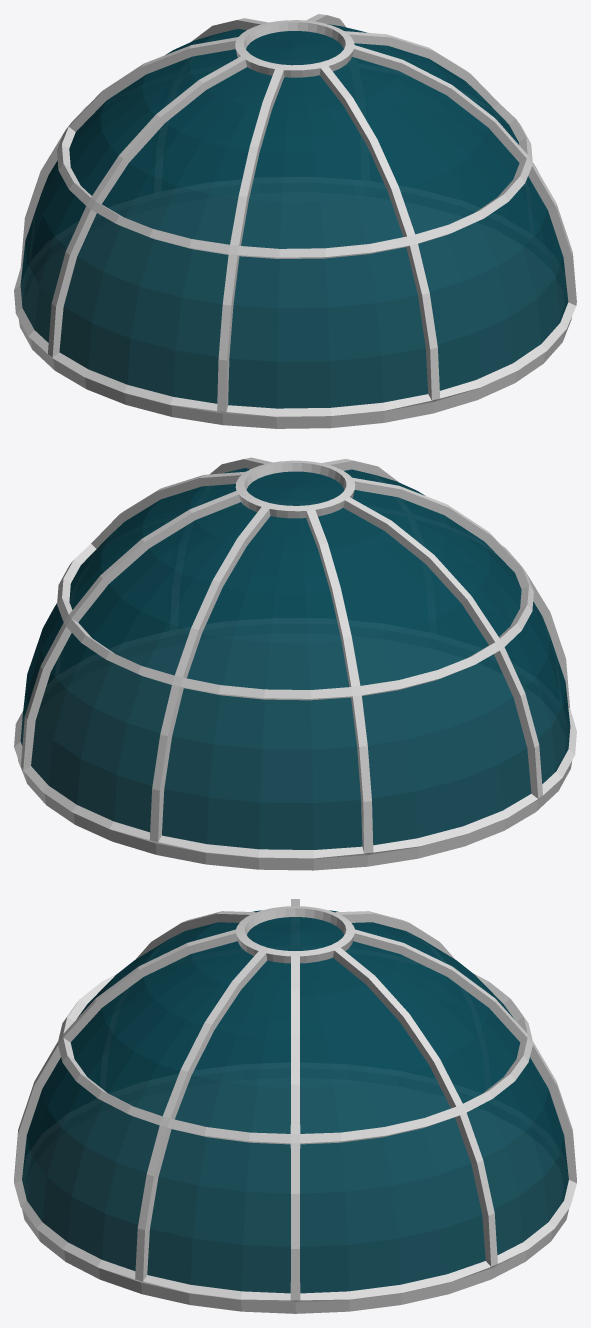
The model's file is skylight_02.fbx.
The picture shows the model from 3 angles, top to bottom: view 1: azimuth 30°, elevation 25°; view 2: azimuth 150°, elevation 25°; view 3: azimuth 270°, elevation 25°; orthographic projection.
Visible parts, largest first — view 1: skylight_02_glass, skylight_02; view 2: skylight_02_glass, skylight_02; view 3: skylight_02_glass, skylight_02.
Part boxes in pixels (left/top/right/bottom): skylight_02_glass: left=20, top=24, right=568, bottom=408; skylight_02: left=14, top=14, right=576, bottom=428; skylight_02_glass: left=20, top=468, right=570, bottom=849; skylight_02: left=14, top=457, right=576, bottom=870; skylight_02_glass: left=22, top=910, right=568, bottom=1293; skylight_02: left=14, top=899, right=576, bottom=1313.
Size of the model in its own units: 595 by 312 by 595.
